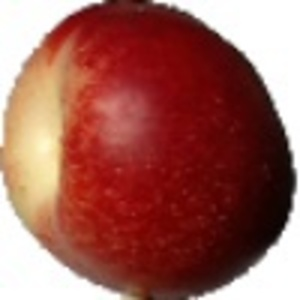nectarina: (1, 1, 296, 300)
